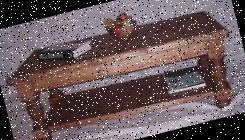Mesa: (0, 2, 244, 139)
